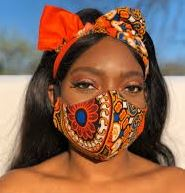with_facemask: (57, 94, 157, 161)
